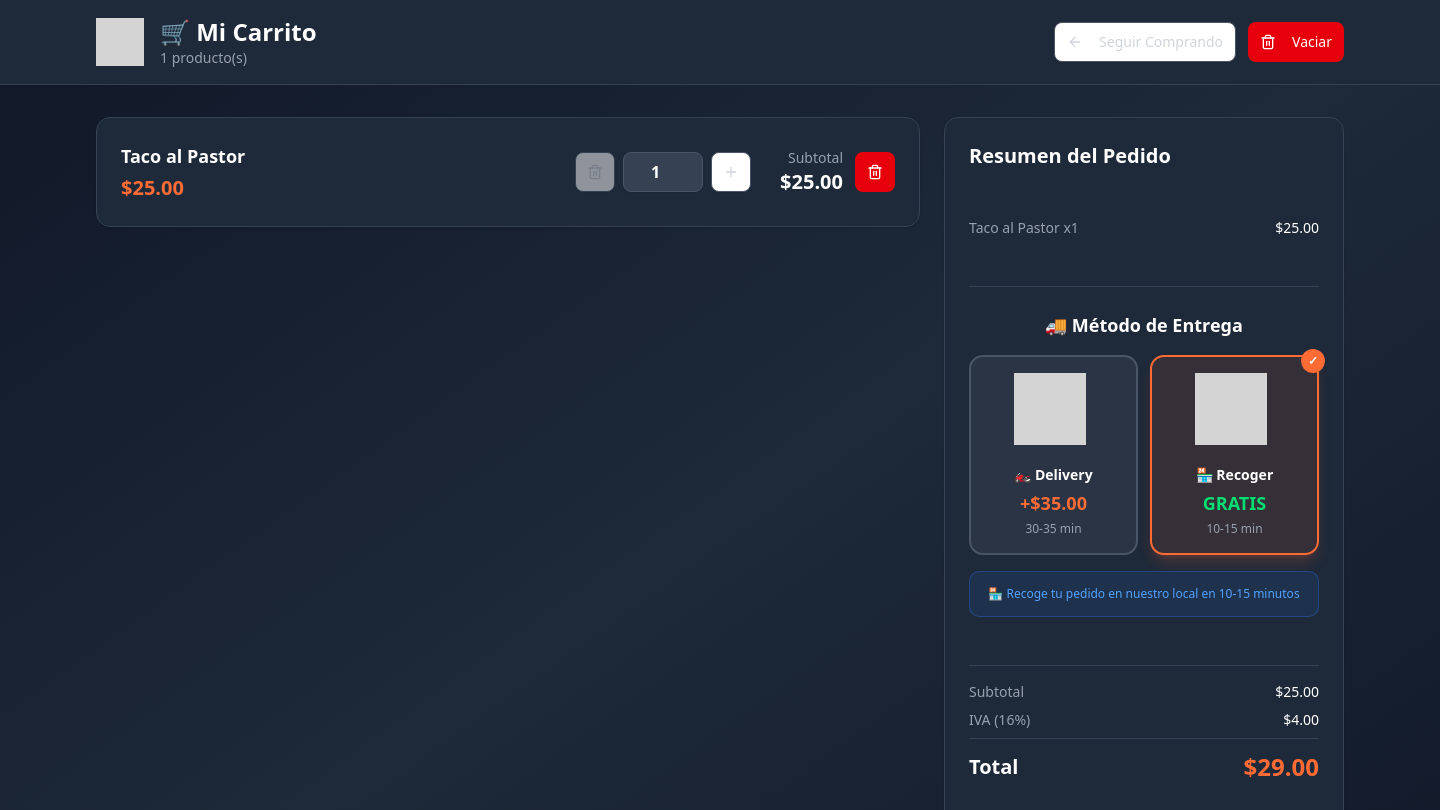
Test: CartPage Component › Delivery Method › should show delivery cost when delivery selected
The width and height of the screenshot is (1440, 810).
Check: the heading "Taco al Pastor" is shown, box [121, 144, 245, 168]
Click the button "🏍️ Delivery +$35.00 30-35 min". click: (1054, 455)
box: [969, 355, 1138, 555]
(page scrolled)
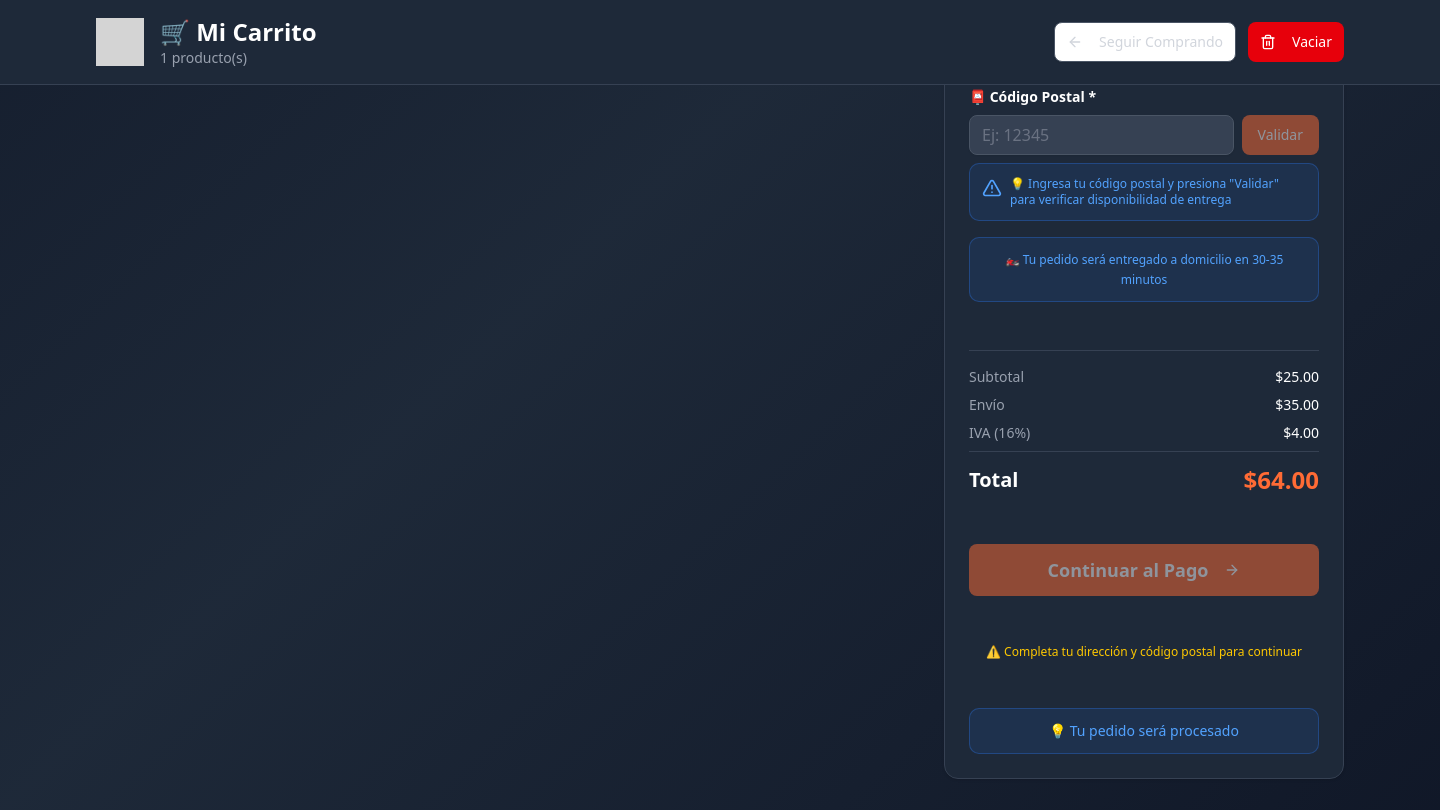
Check: the text "Envío" is shown, box [969, 395, 1005, 415]
Check: the text "$35.00" is shown, box [1275, 395, 1319, 415]
